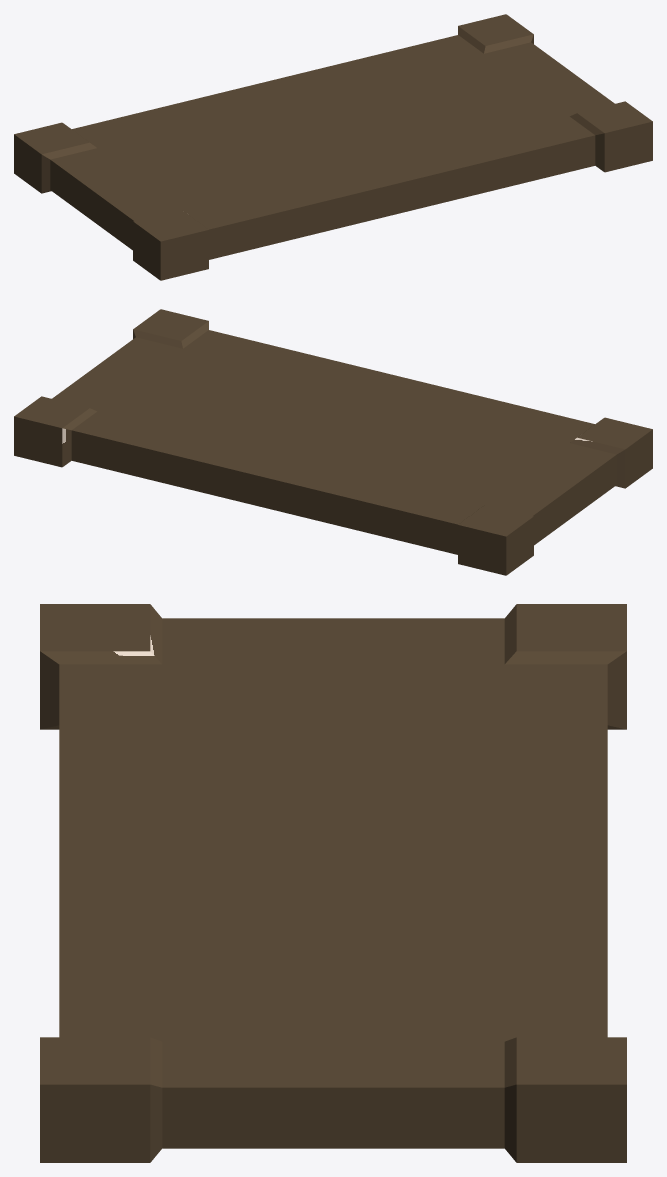
File: CeilingLight.fbx
3 renders of one model, top to bottom at view 1: azimuth 30°, elevation 25°; view 2: azimuth 150°, elevation 25°; view 3: azimuth 270°, elevation 25°, orthographic. The views are drawn at different scales.
Parts seen in each view (by area): view 1: CeilingLight; view 2: CeilingLight; view 3: CeilingLight.
Part boxes in pixels (box(x1,y1,x2,y2)): CeilingLight: box(14, 14, 652, 280); CeilingLight: box(14, 309, 652, 575); CeilingLight: box(40, 604, 626, 1162).
Bounding box in the file's own units: 2.45 × 0.2505 × 1.26.
